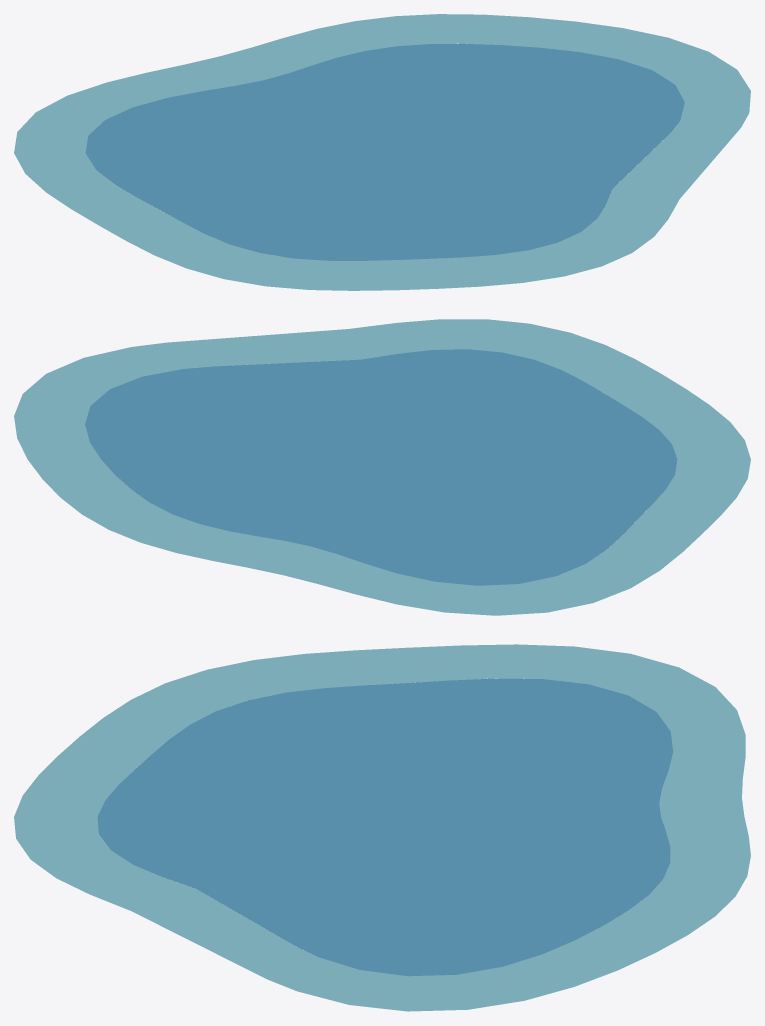
The model's file is lake.glb.
3 views of the same model, one above another, from view 1: azimuth 30°, elevation 25°; view 2: azimuth 150°, elevation 25°; view 3: azimuth 270°, elevation 25° (orthographic). The views are drawn at different scales.
Visible parts, largest first — view 1: lake; view 2: lake; view 3: lake.
Boxes of the visible parts, x1,y1,x2,y2 form: lake: [14, 14, 750, 290]; lake: [14, 319, 750, 615]; lake: [14, 644, 750, 1011].
Bounding box in the file's own units: 33.3 × 0 × 28.25.
